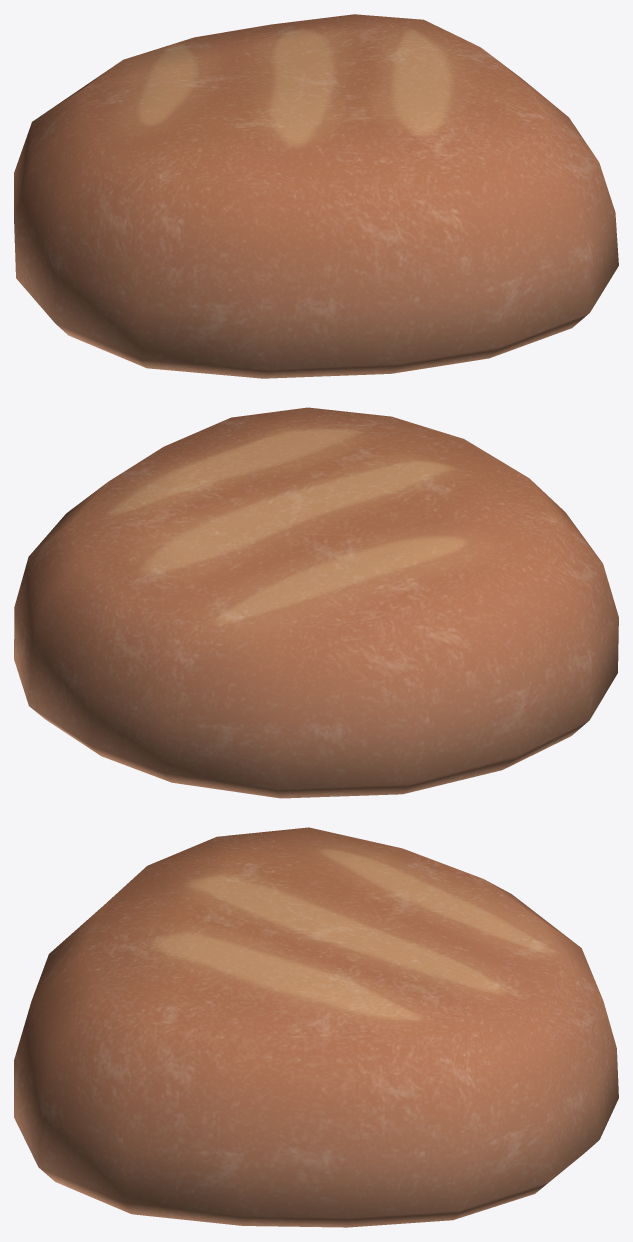
3 renders of one model, top to bottom at view 1: azimuth 30°, elevation 25°; view 2: azimuth 150°, elevation 25°; view 3: azimuth 270°, elevation 25°, orthographic. The views are drawn at different scales.
Parts seen in each view (by area): view 1: submesh_0; view 2: submesh_0; view 3: submesh_0.
Boxes of the visible parts, x1,y1,x2,y2 form: submesh_0: (14, 14, 618, 378); submesh_0: (14, 407, 618, 798); submesh_0: (14, 827, 618, 1227).
Size of the model in its own units: 0.4488 by 0.1626 by 0.4475.
1 material, 1 textured.
